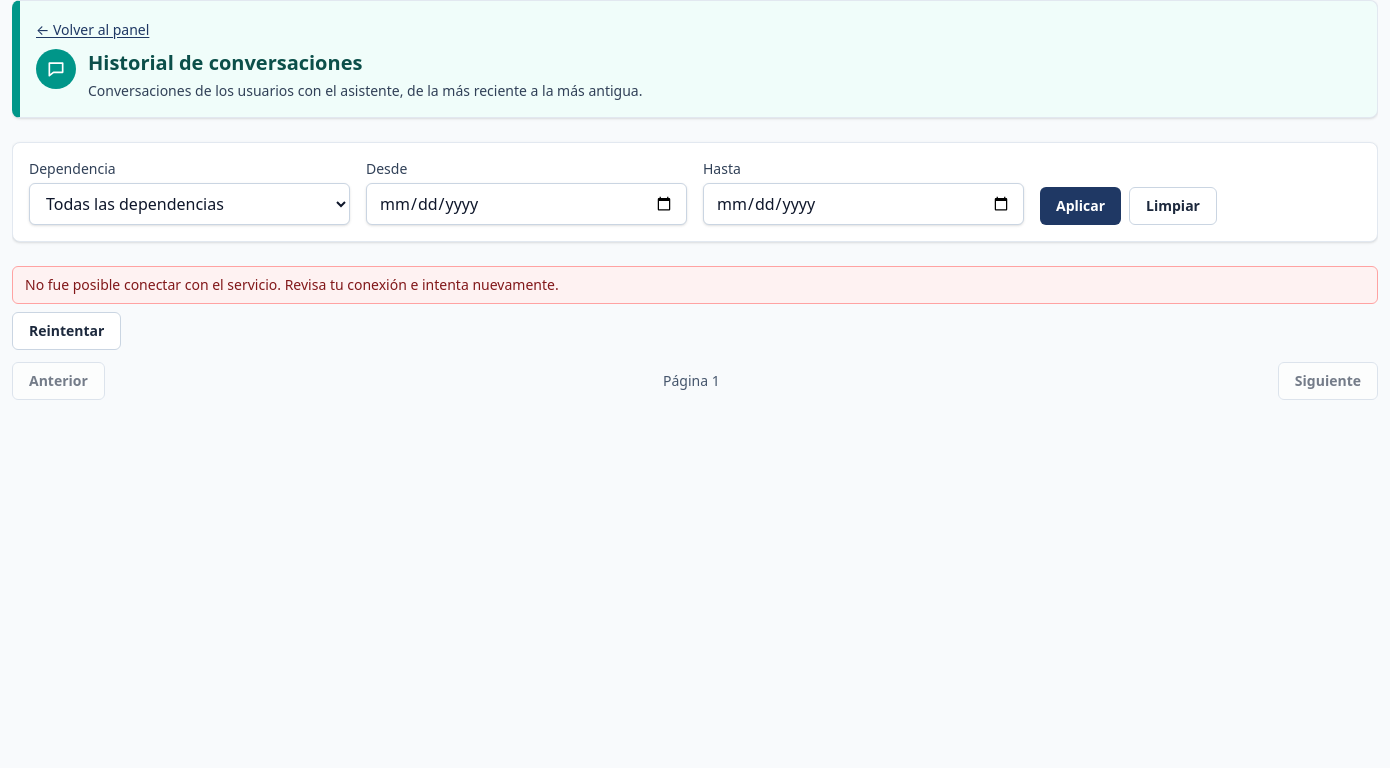
Test case: historial administrativo: lista › ante un error avisa y permite reintentar; un 401 no muestra error
The image size is (1390, 768).
Expected: the text "No fue posible conectar" is shown, [25, 275, 559, 294]
Click the button "Reintentar" at (67, 331), box [12, 312, 121, 350]
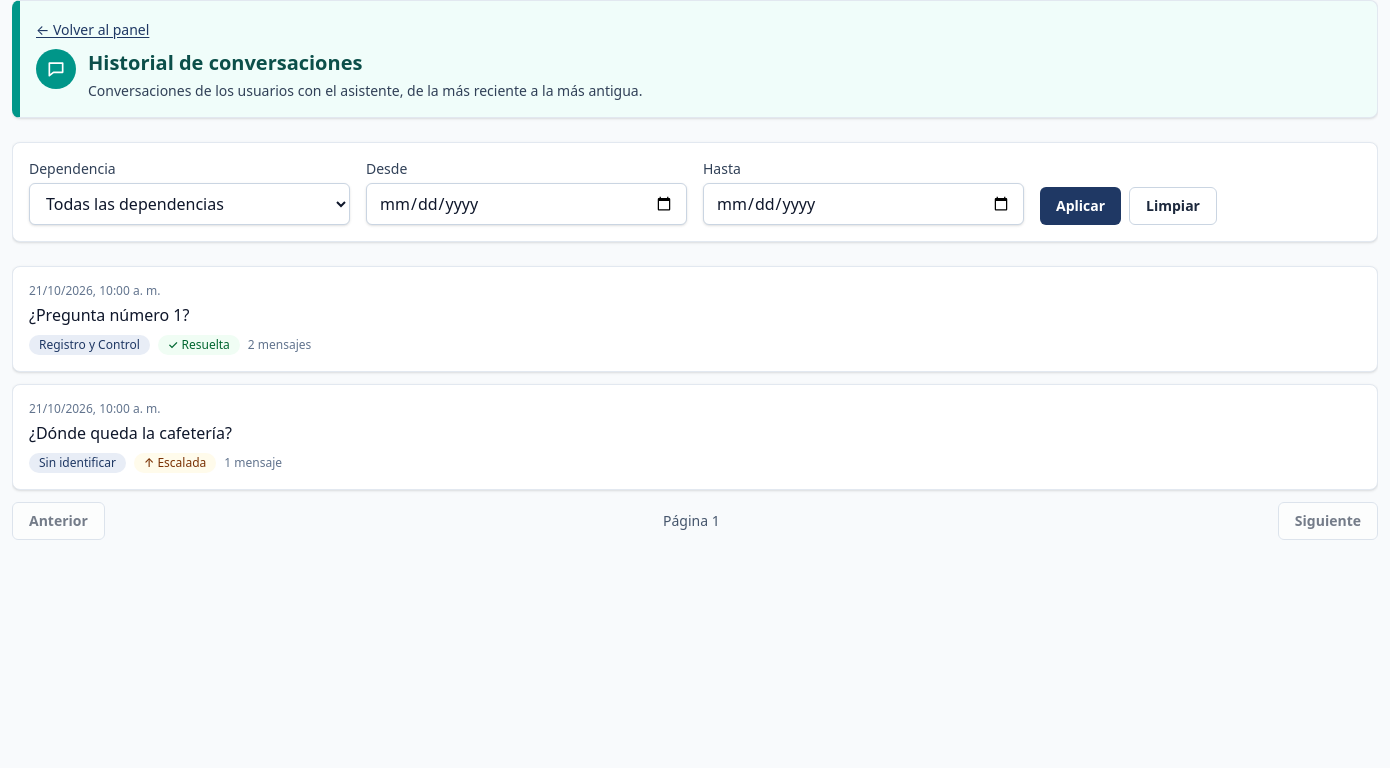
Expected: the text "¿Pregunta número 1?" is shown, [29, 304, 190, 326]
